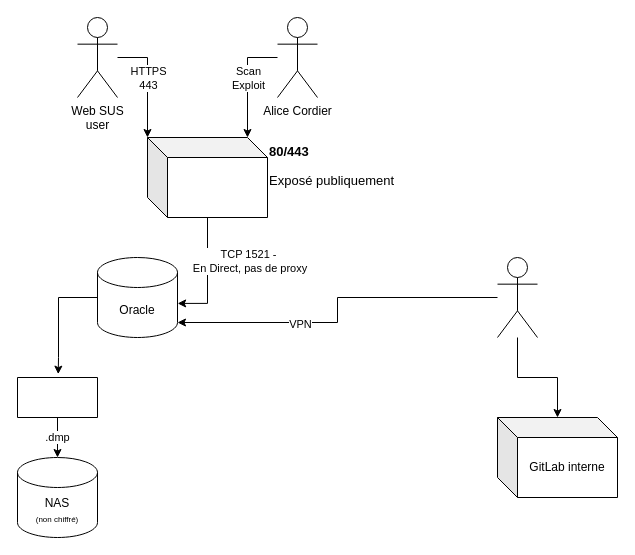
Some shapes in this 635 by 555 pixel diagram are drawn without their labels. Each missing label, with the box of its shape:
Data Pump: (16, 376, 98, 418)
DEV: (496, 256, 538, 338)
Serveur Web: (146, 136, 268, 218)
